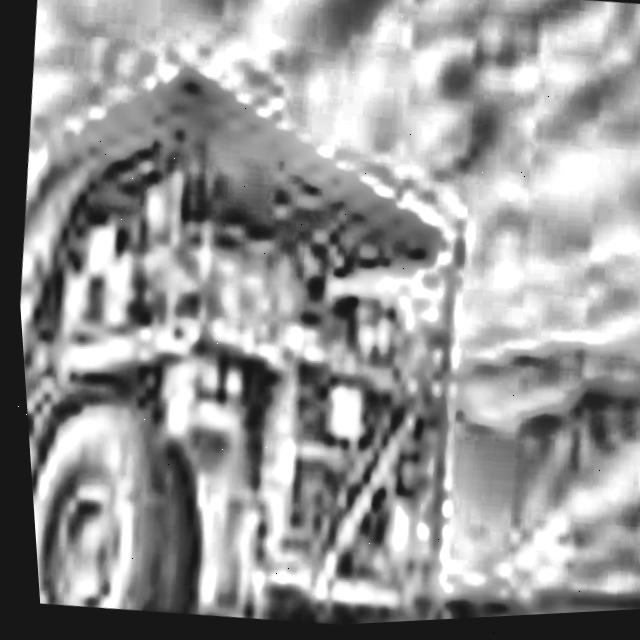dump_truck: (1, 4, 502, 640)
